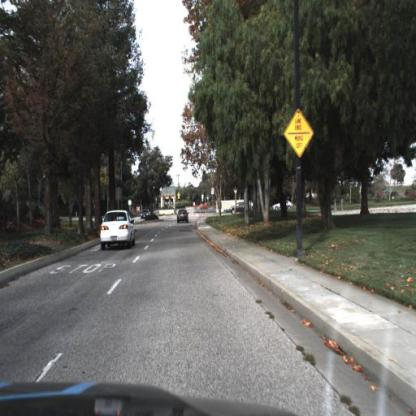car: (98, 209, 136, 249), (175, 208, 190, 224), (140, 209, 151, 221)
